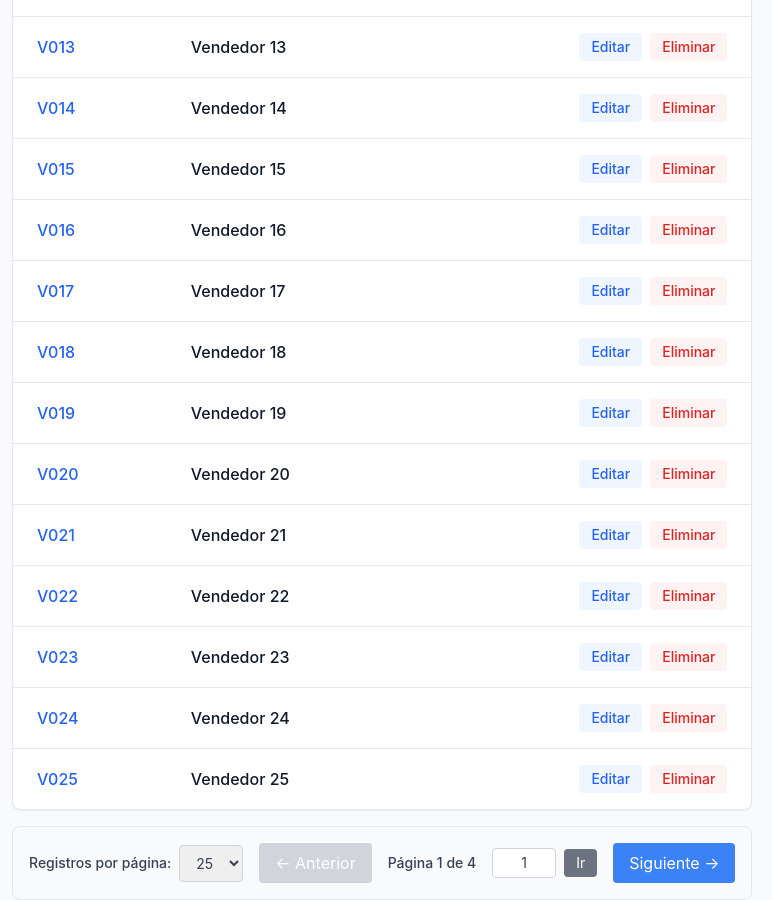
SellersModule Unit Tests › Pagination › should navigate to next page
(page scrolled)
Click the button "Siguiente →" at [674, 863], box 613,843 -> 736,883
(page scrolled)
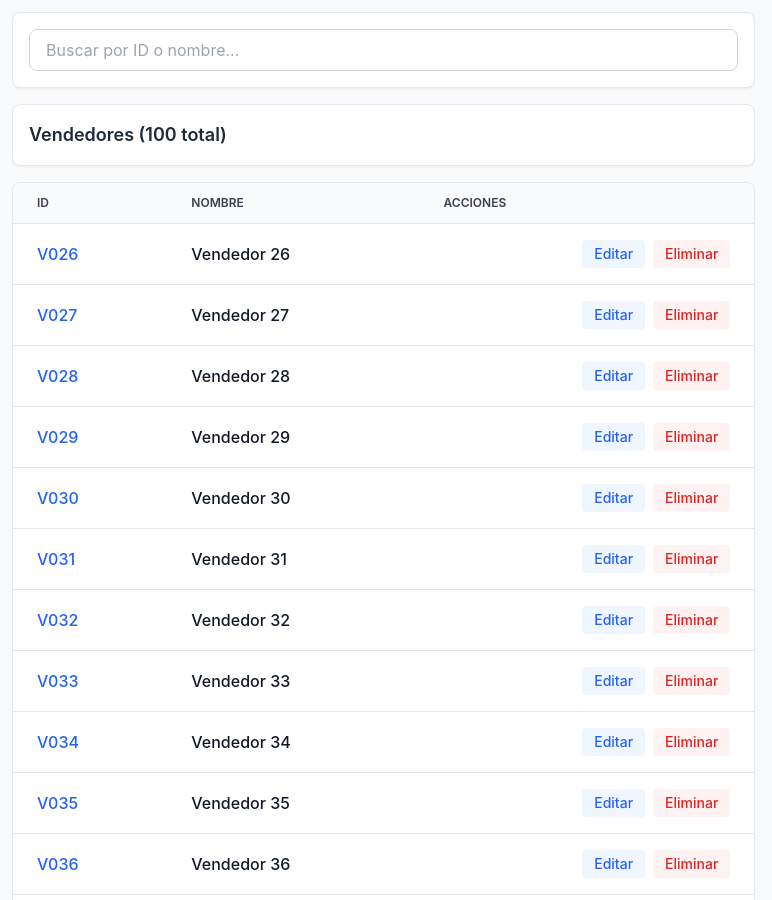
Check: the text "Vendedor 26" is shown, box 167,224 -> 420,284
